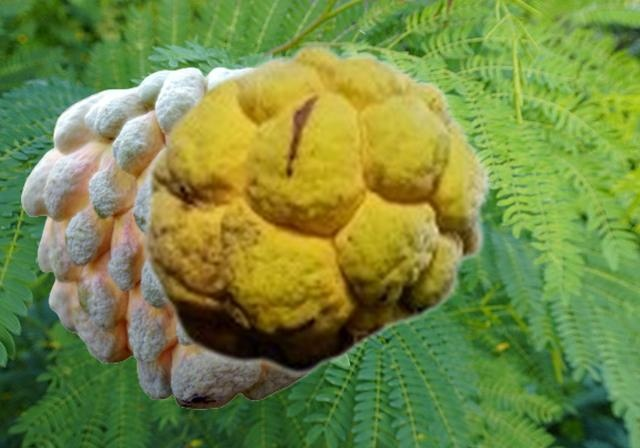atis: (139, 41, 491, 375), (21, 66, 308, 408)
